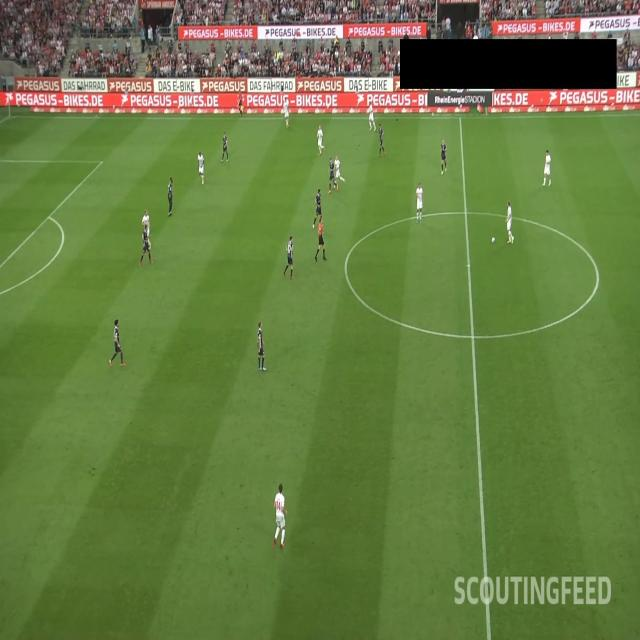ball: (491, 237, 496, 244)
